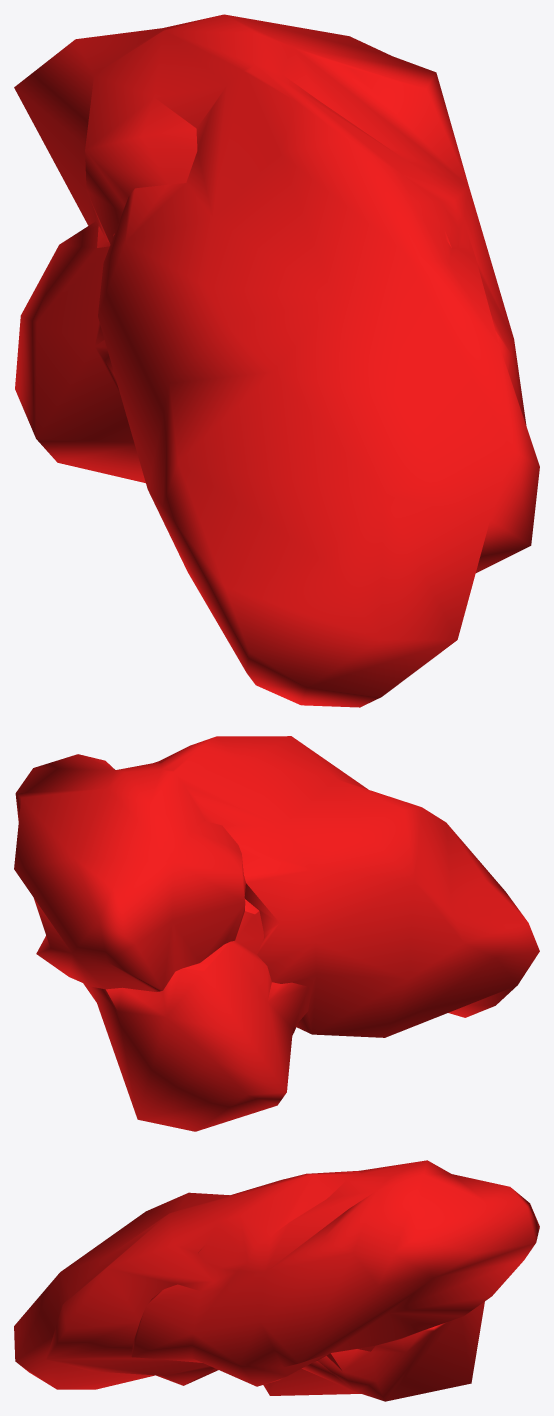
Rendered from Rock_03.fbx.
The picture shows the model from 3 angles, top to bottom: view 1: azimuth 30°, elevation 25°; view 2: azimuth 150°, elevation 25°; view 3: azimuth 270°, elevation 25°; orthographic projection. The views are drawn at different scales.
Parts seen in each view (by area): view 1: rock_3; view 2: rock_3; view 3: rock_3.
Boxes of the visible parts, x1,y1,x2,y2 form: rock_3: [14, 14, 539, 707]; rock_3: [14, 736, 539, 1131]; rock_3: [14, 1160, 539, 1401].
Bounding box in the file's own units: 872 × 873 × 1528.
